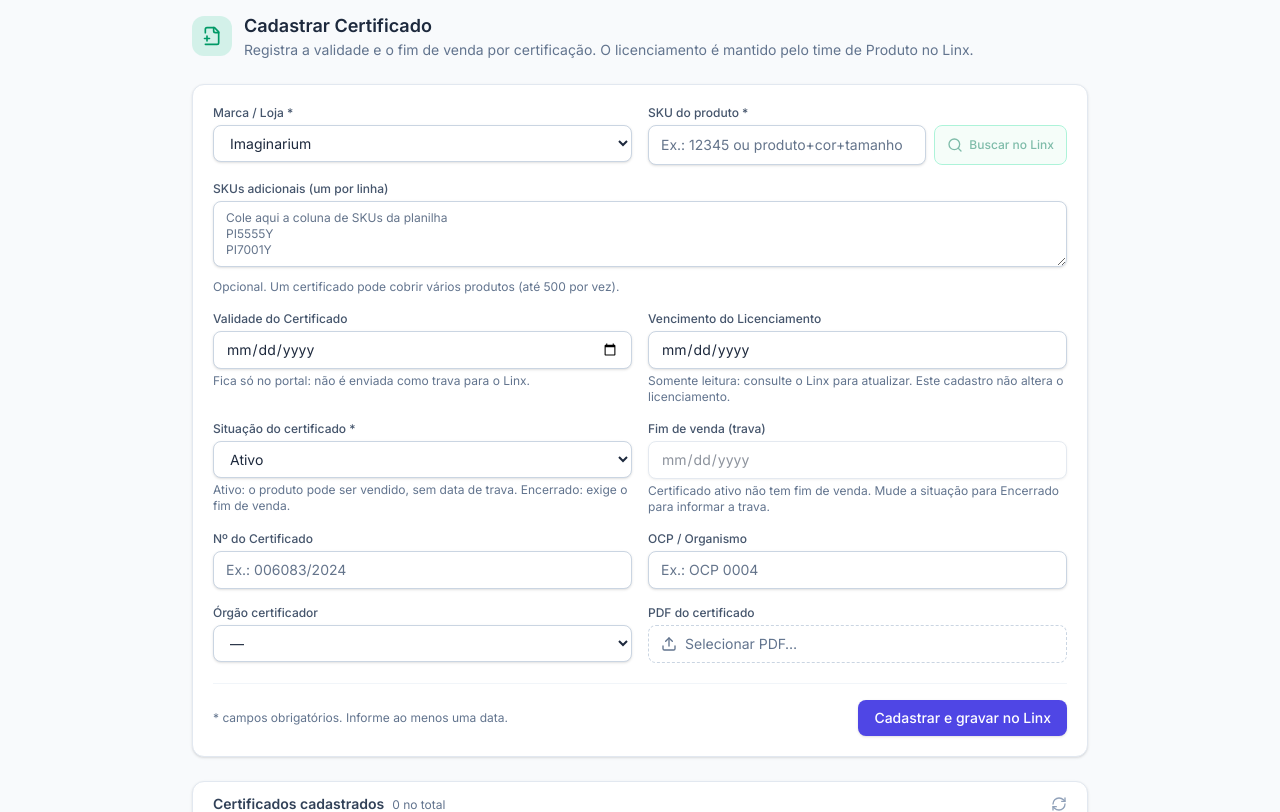
Scenario: CertCadastroPage Linx lookup › consults Linx and preserves typed validity without permitting licensing edits
The width and height of the screenshot is (1280, 812).
Select "Puket" in the dropdown labelled "Marca / Loja *": (422, 144) [213,125,632,162]
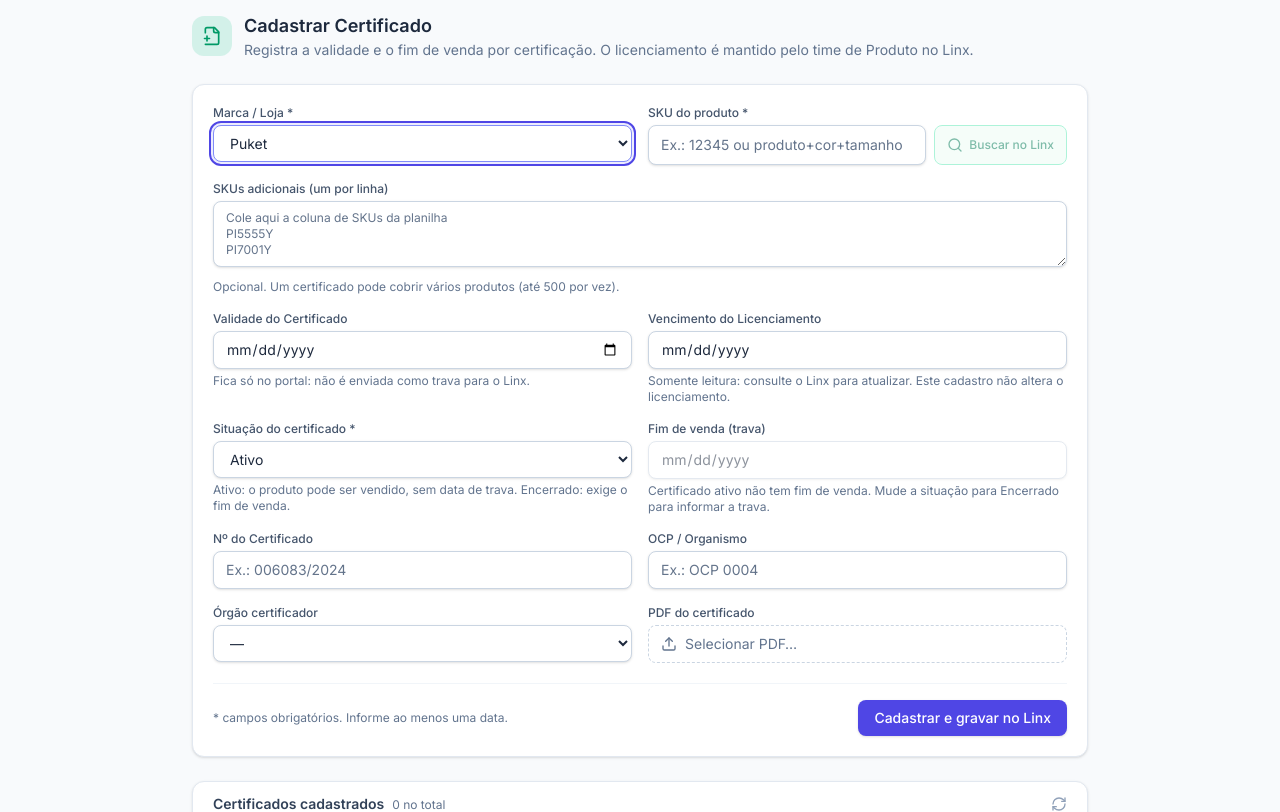
In the field labelled "SKU do produto *": (787, 145) [648,125,926,165], type "100400496"
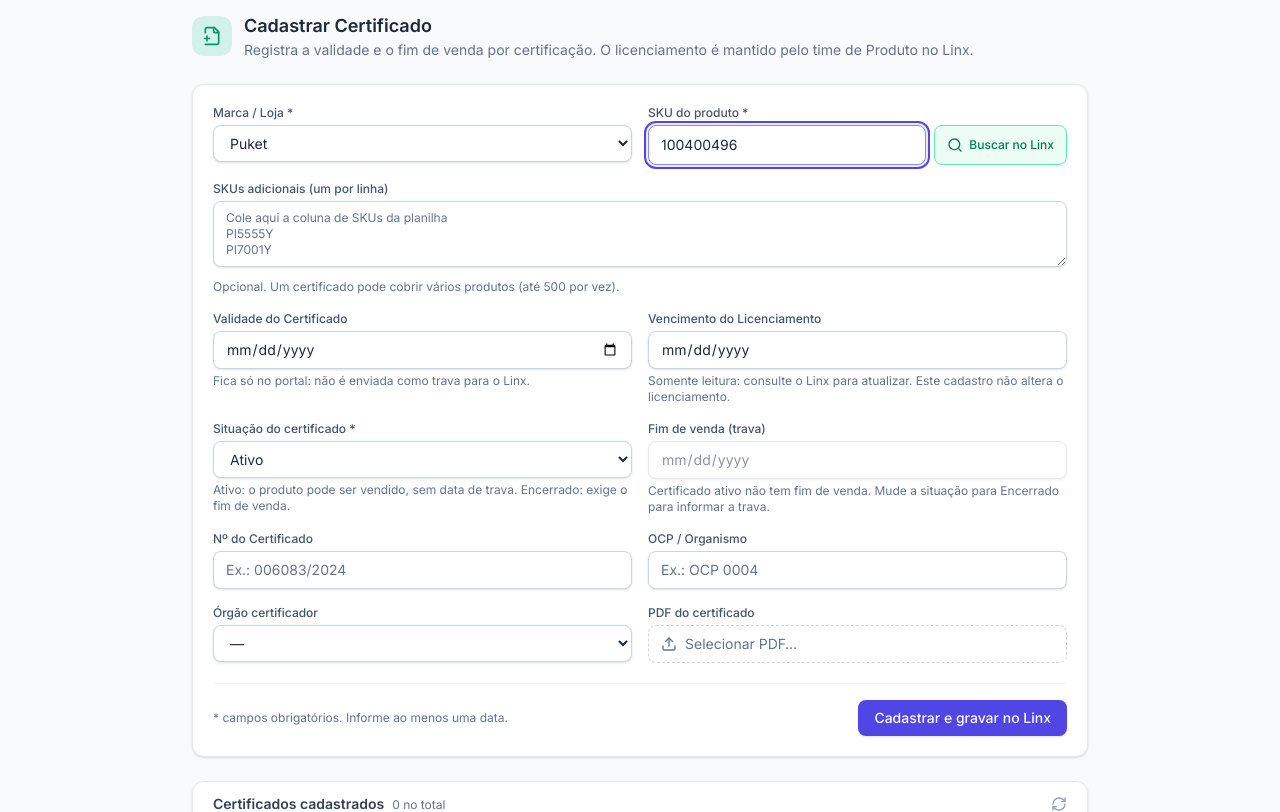
In the date field labelled "Validade do Certificado": (422, 350) [213,331,632,369], type "2028-01-20"
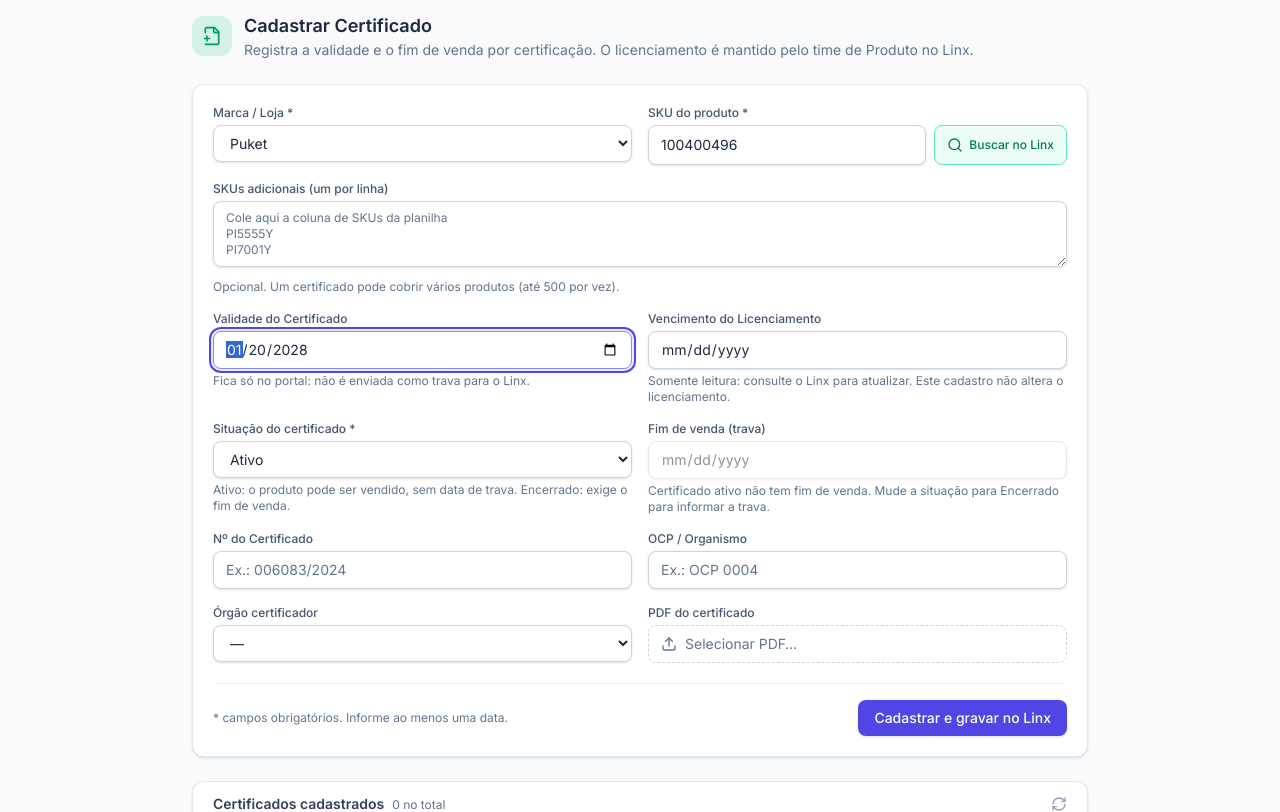
Click the button "Buscar no Linx": click(1001, 145) [934,125,1067,165]
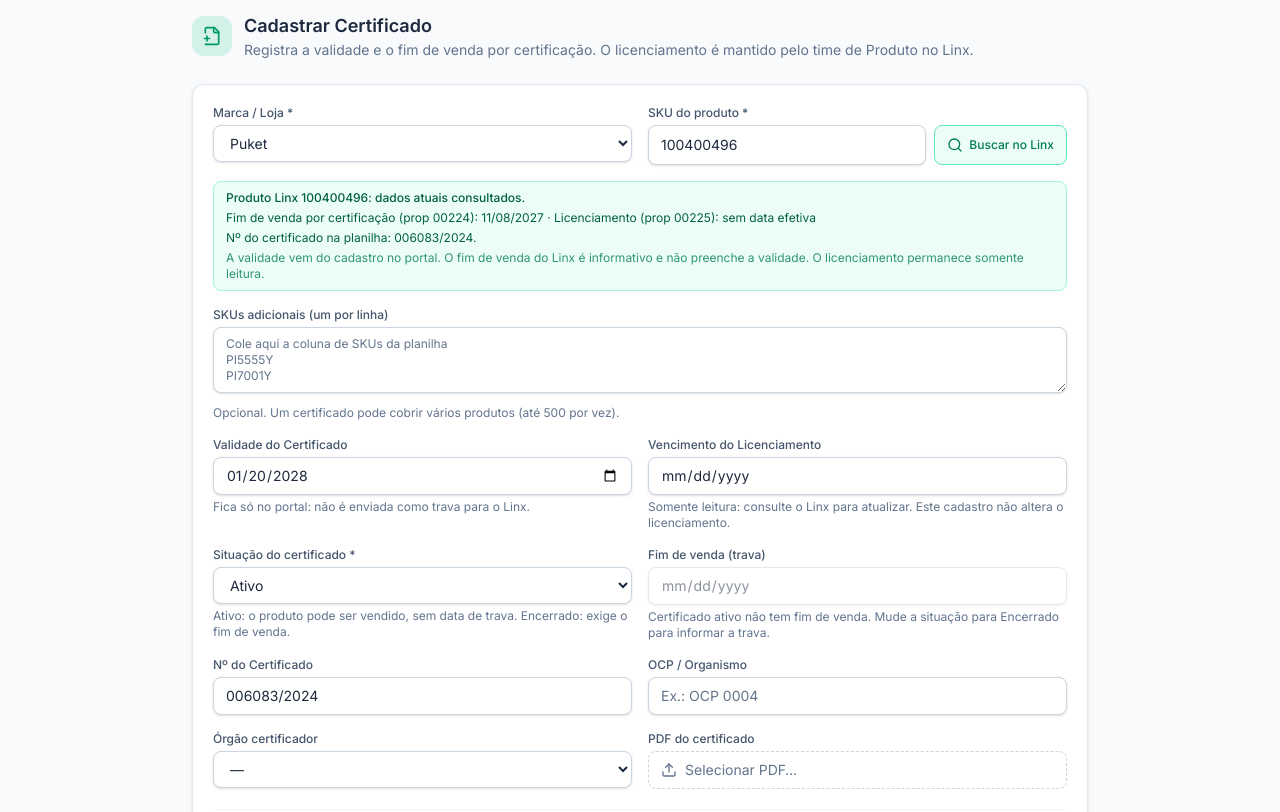
Expected: the date field labelled "Vencimento do Licenciamento" is empty, [648,457,1067,495]
Expected: the field labelled "Nº do Certificado" holds "006083/2024", [213,677,632,715]
Expected: the text "prop 00225" is shown, [226,210,816,225]
